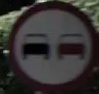No overtake: (7, 7, 90, 81)
